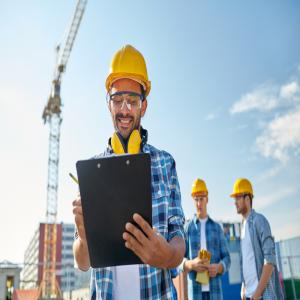yellow: (108, 47, 150, 138), (234, 179, 254, 218), (193, 179, 210, 217)
